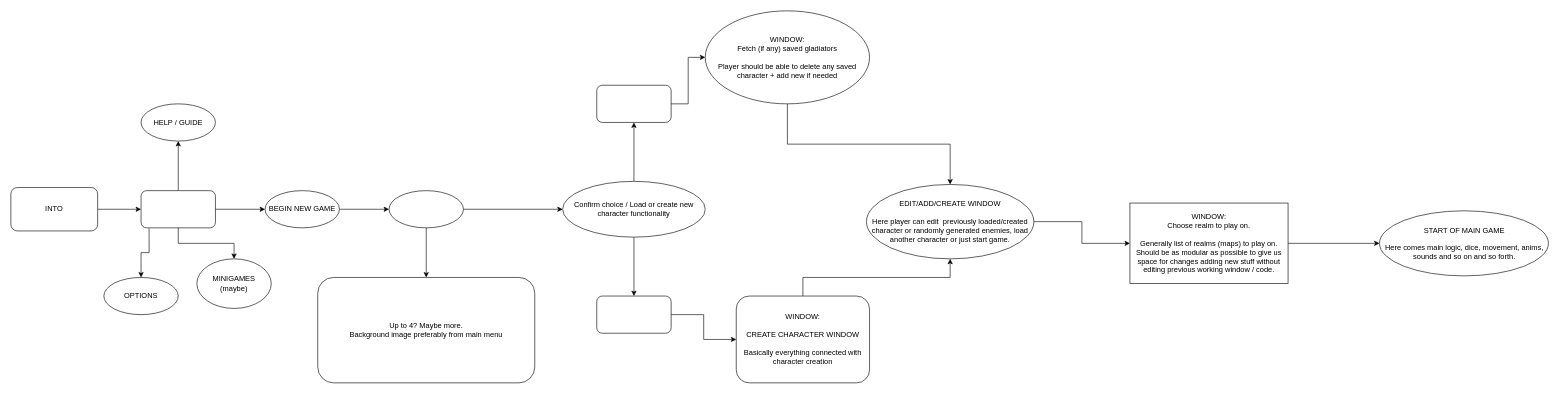
Image size: 1559x394. Some labels were removed from this diagram. The centre of each missing label's shape, as x and y in pixels:
CREATE NEW CHARACTER: [633,314]
LOAD CHARACTER(S): [633,103]
MAIN MENU: [177,209]
WINDOW: HOW MANY PLAYERS: [425,209]
